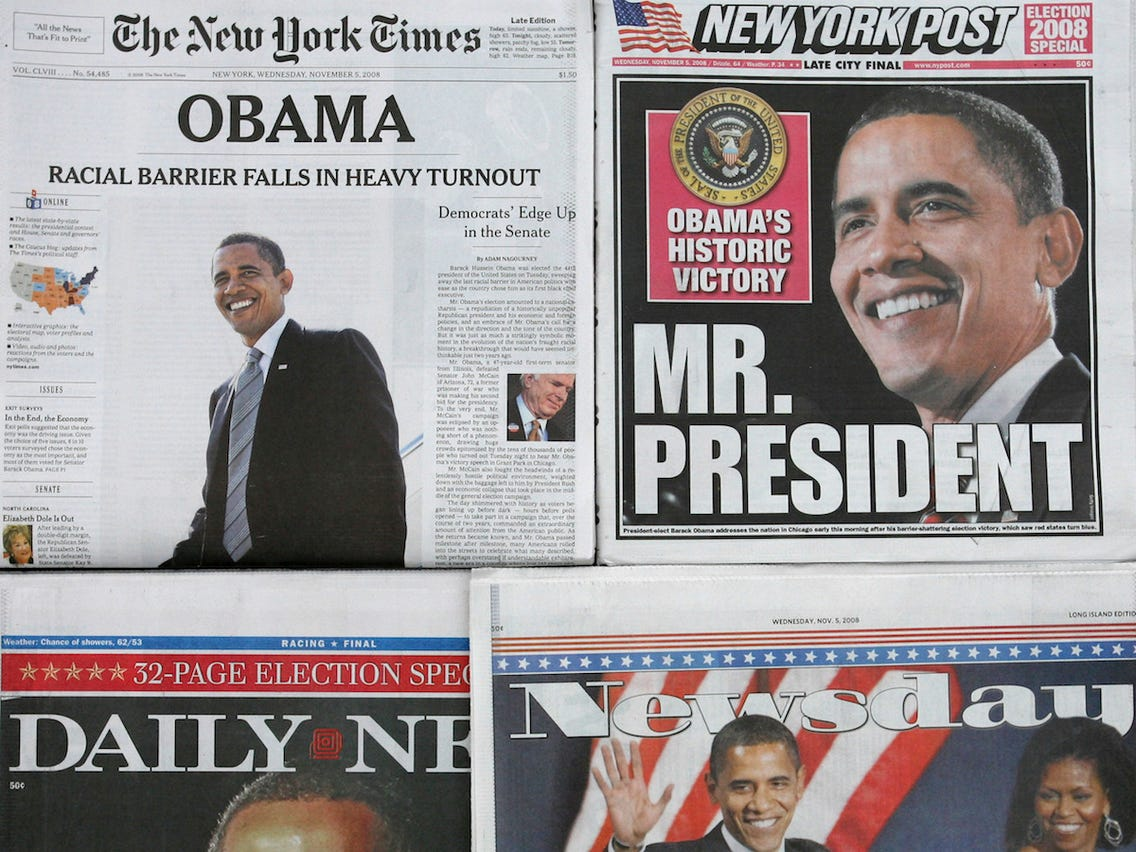news_paper: (1, 1, 613, 575), (577, 3, 1136, 587), (417, 475, 1136, 852), (1, 531, 586, 852)
